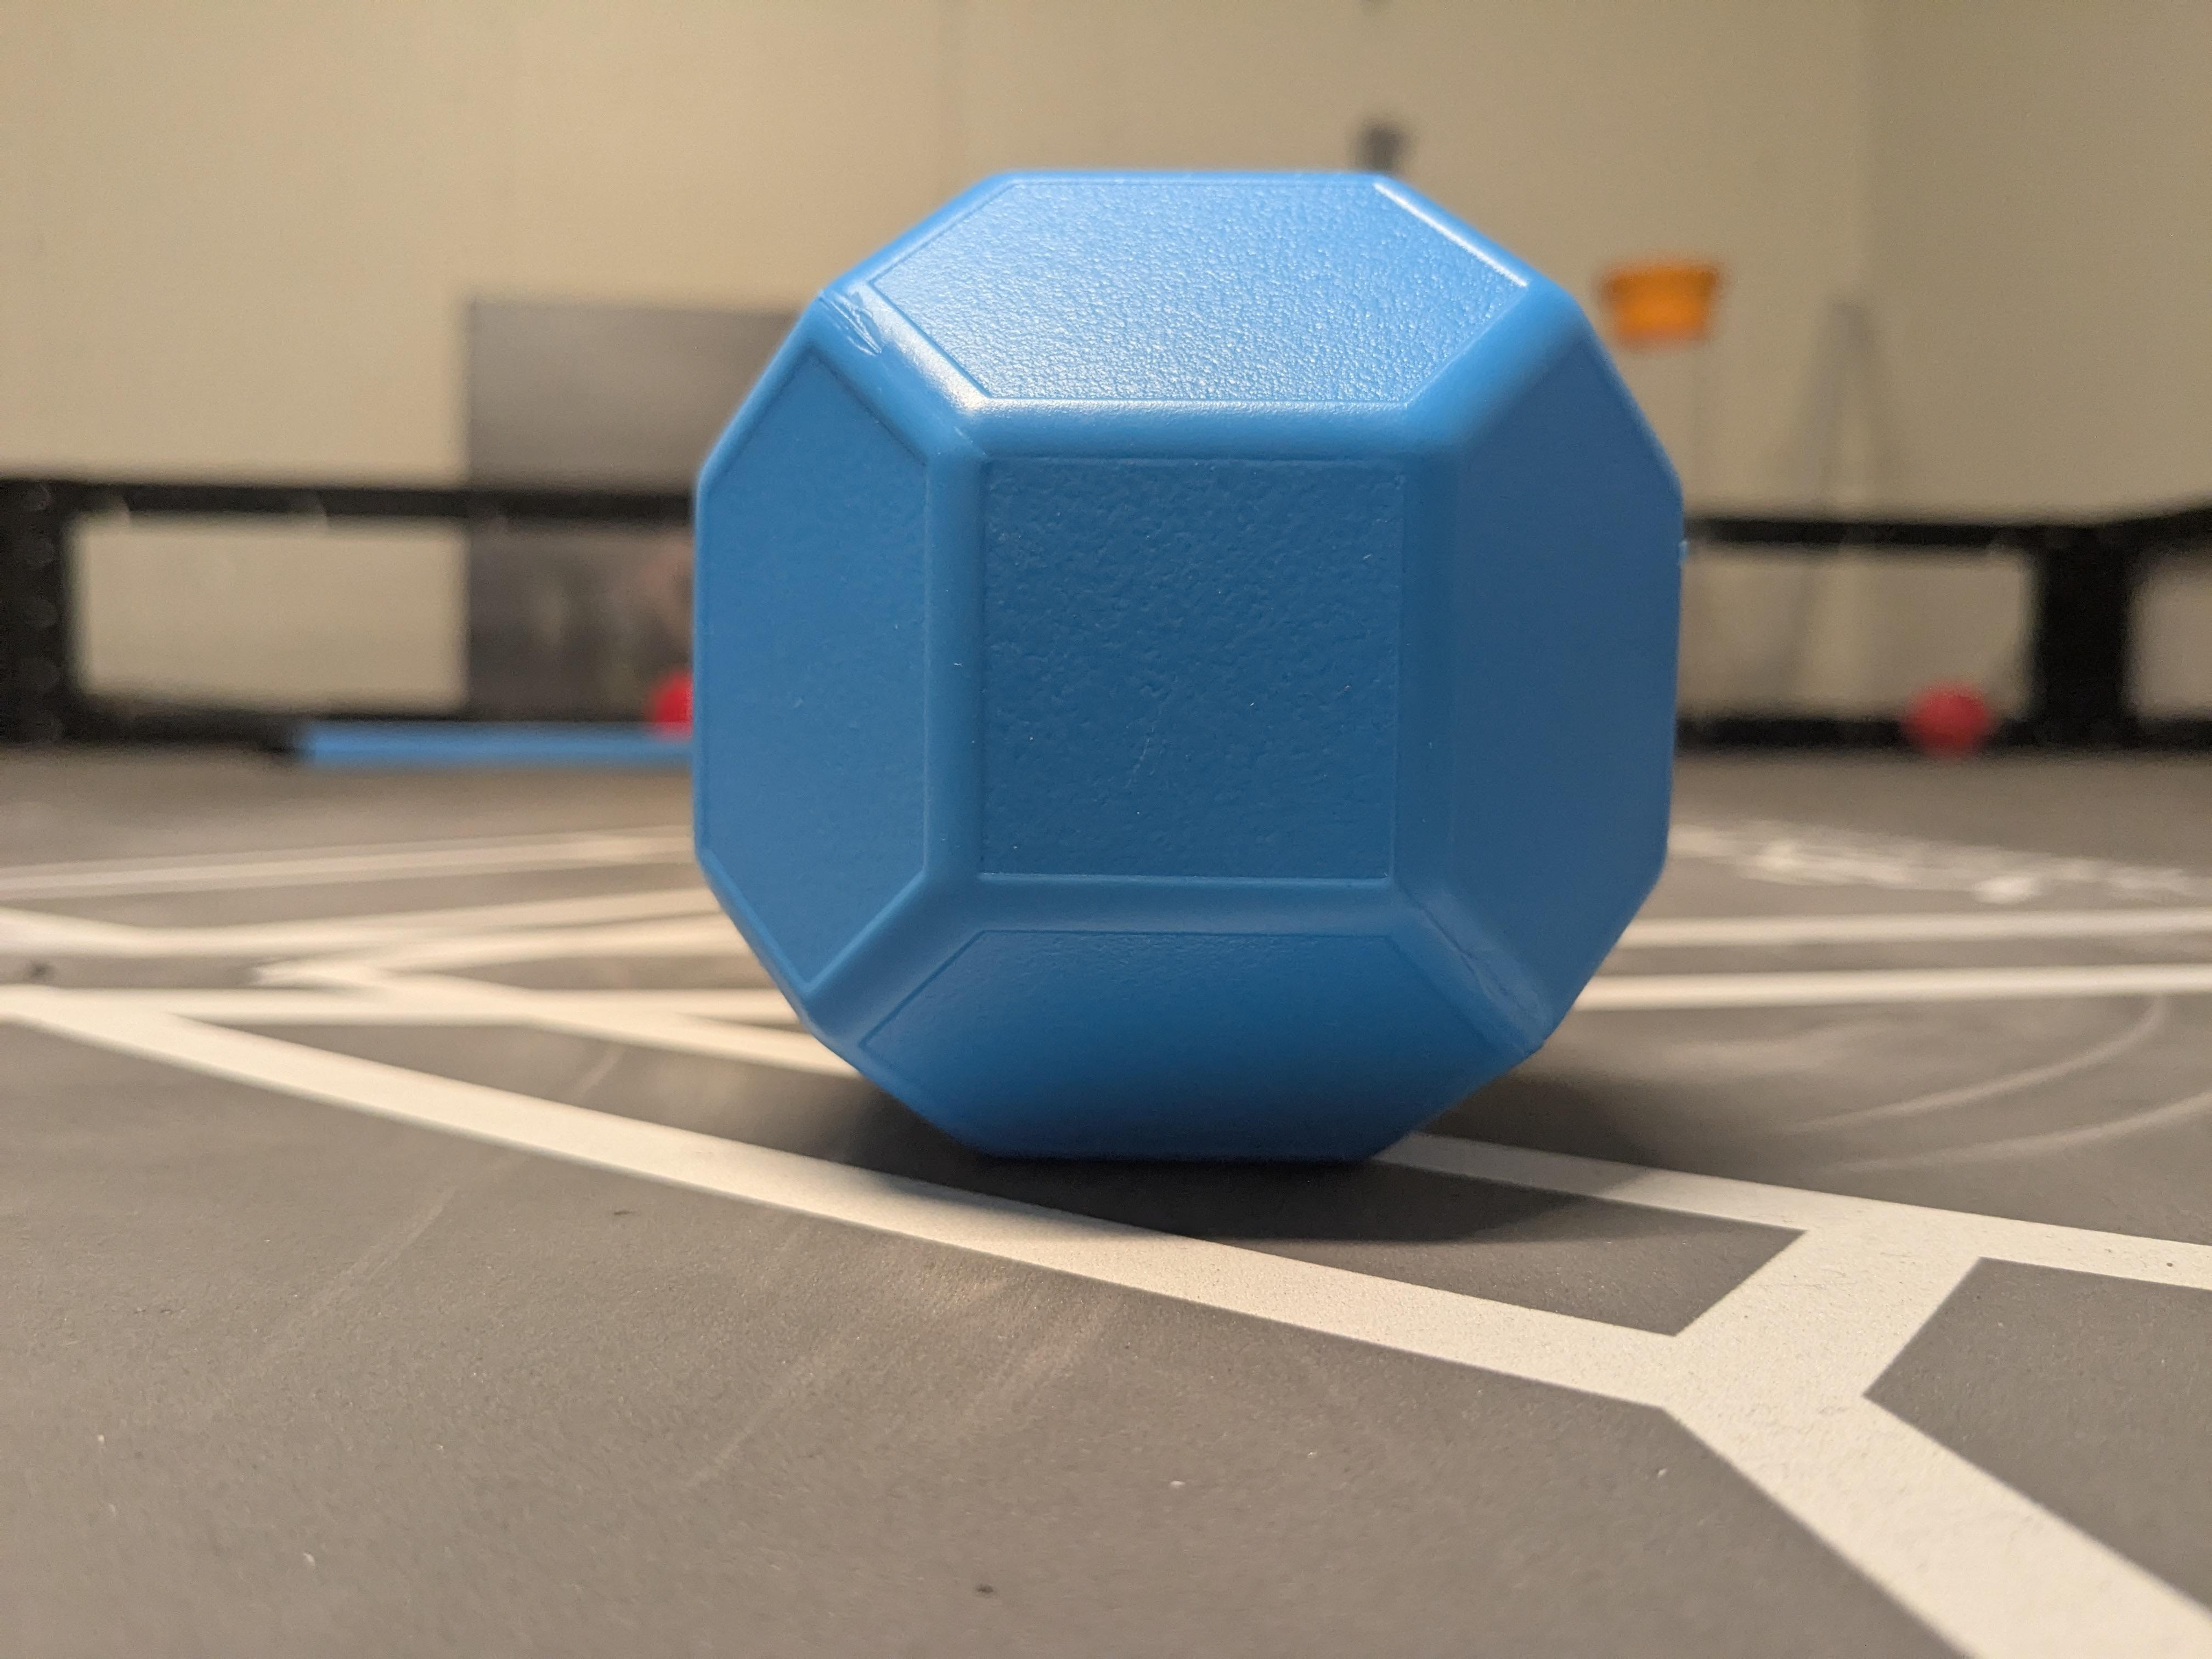Vex-Pieces-BLUE: (693, 173, 1681, 1161)
